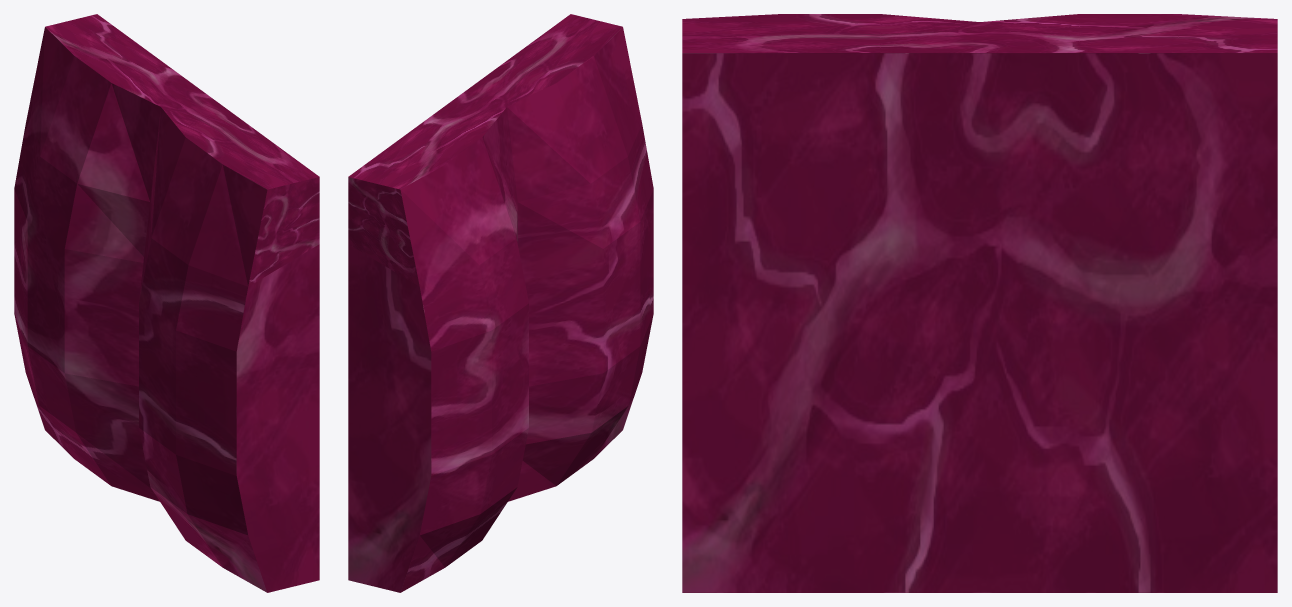
File: EspacioPornoParedInteriorAltoNI.gltf
The picture shows the model from 3 angles, left to right: view 1: azimuth 30°, elevation 25°; view 2: azimuth 150°, elevation 25°; view 3: azimuth 270°, elevation 25°; orthographic projection. The views are drawn at different scales.
Visible parts, largest first — view 1: Cubo.29; view 2: Cubo.29; view 3: Cubo.29.
Boxes of the visible parts, x1=… form: Cubo.29: x1=14, y1=14, x2=319, y2=592; Cubo.29: x1=348, y1=14, x2=653, y2=592; Cubo.29: x1=682, y1=14, x2=1277, y2=592.
Size of the model in its own units: 0.5535 by 2 by 2.
Materials: 1 (1 with a texture image).
